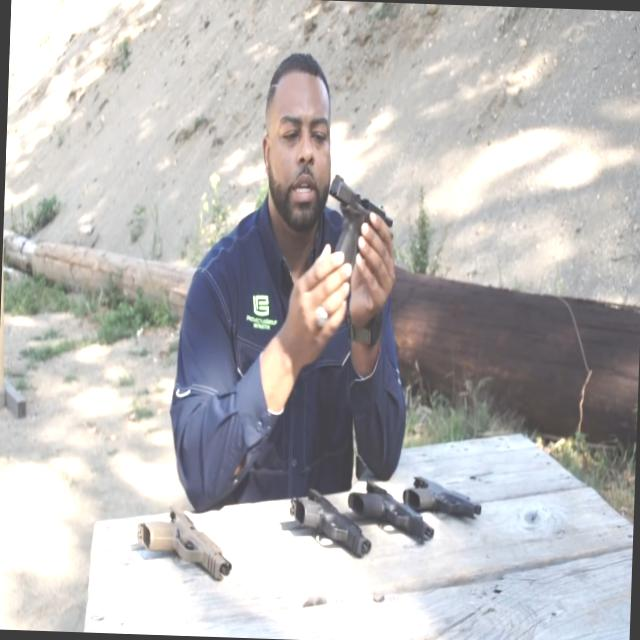handgun: (133, 489, 240, 606), (280, 481, 383, 578), (328, 160, 398, 290), (342, 471, 438, 547), (396, 452, 484, 526)
